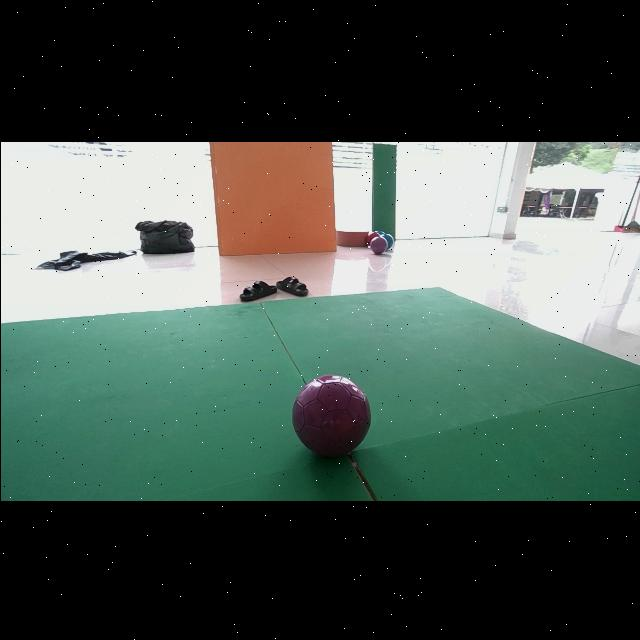P: (291, 373, 369, 455)
